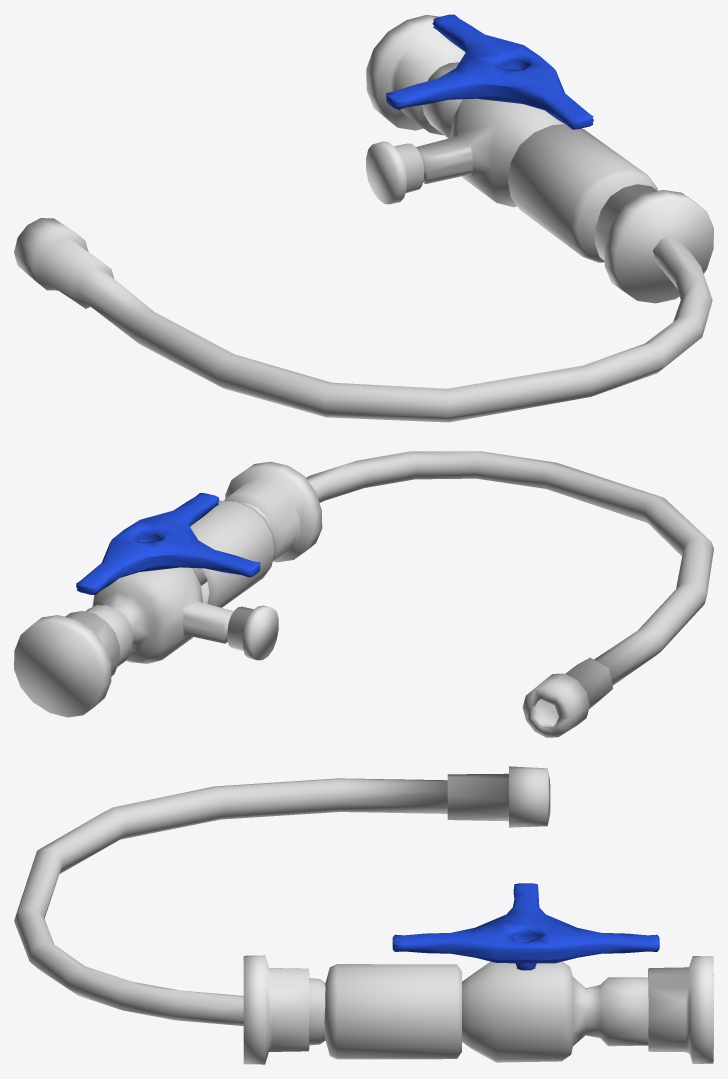
Rendered from SM_Llave3vias.fbx.
The picture shows the model from 3 angles, top to bottom: view 1: azimuth 30°, elevation 25°; view 2: azimuth 150°, elevation 25°; view 3: azimuth 270°, elevation 25°; orthographic projection. The views are drawn at different scales.
Parts seen in each view (by area): view 1: BézierCurve, BézierCurve.001; view 2: BézierCurve, BézierCurve.001; view 3: BézierCurve, BézierCurve.001.
Part boxes in pixels (x1,y1,x2,y2): BézierCurve: (14, 15, 713, 422); BézierCurve.001: (386, 14, 593, 129); BézierCurve: (14, 451, 713, 737); BézierCurve.001: (76, 493, 260, 594); BézierCurve: (14, 766, 713, 1064); BézierCurve.001: (392, 883, 659, 970).
Bounding box in the file's own units: 10.99 × 2.54 × 13.08.
